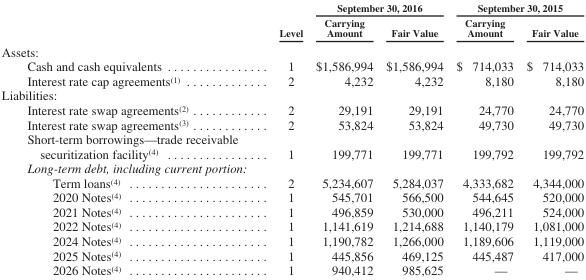table: (0, 1, 583, 276)
table column: (0, 1, 257, 276), (378, 1, 449, 276), (308, 1, 378, 276), (449, 1, 519, 276), (519, 1, 583, 276), (257, 1, 308, 276)
table column header: (0, 1, 583, 41)
table projected row header: (0, 41, 583, 58), (0, 87, 583, 102), (0, 160, 583, 175)
table row: (0, 131, 583, 160), (0, 14, 583, 41), (0, 41, 583, 58), (0, 58, 583, 73), (0, 87, 583, 102), (0, 116, 583, 131), (0, 160, 583, 175), (0, 189, 583, 204), (0, 218, 583, 233), (0, 247, 583, 262), (0, 73, 583, 87), (0, 102, 583, 116), (0, 175, 583, 189), (0, 204, 583, 218), (0, 233, 583, 247), (0, 262, 583, 276), (0, 1, 583, 14)
table spanning cell: (257, 1, 308, 41), (308, 1, 449, 14), (449, 1, 583, 14)
